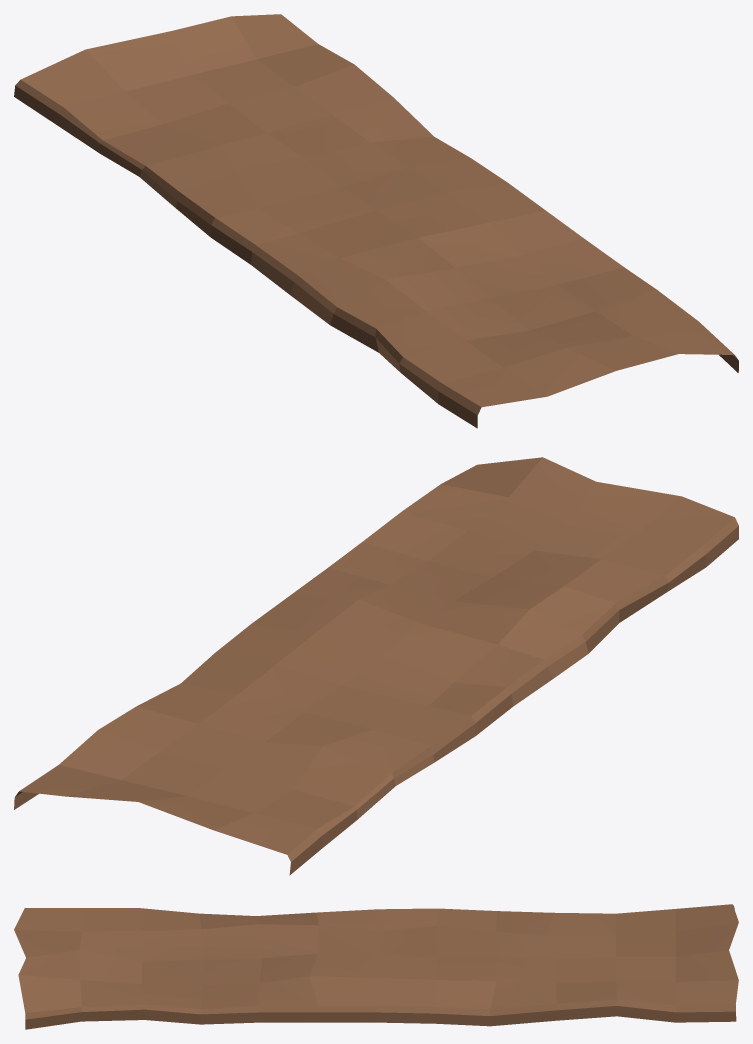
The model's file is RoadTile_11.fbx.
3 renders of one model, top to bottom at view 1: azimuth 30°, elevation 25°; view 2: azimuth 150°, elevation 25°; view 3: azimuth 270°, elevation 25°, orthographic. The views are drawn at different scales.
Parts seen in each view (by area): view 1: RoadTile_11; view 2: RoadTile_11; view 3: RoadTile_11.
Part boxes in pixels (x1,y1,x2,y2): RoadTile_11: [14, 14, 738, 428]; RoadTile_11: [14, 457, 738, 875]; RoadTile_11: [14, 904, 738, 1029].
Size of the model in its own units: 415 by 63.29 by 1216.
